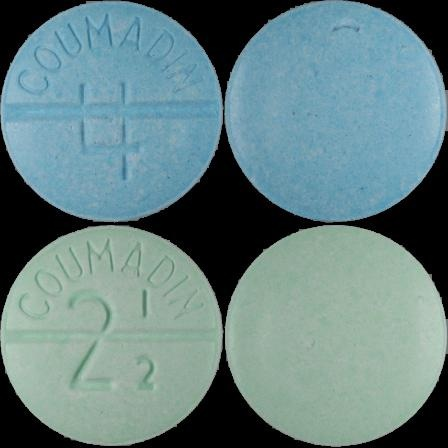67544-194: (0, 0, 224, 224)
